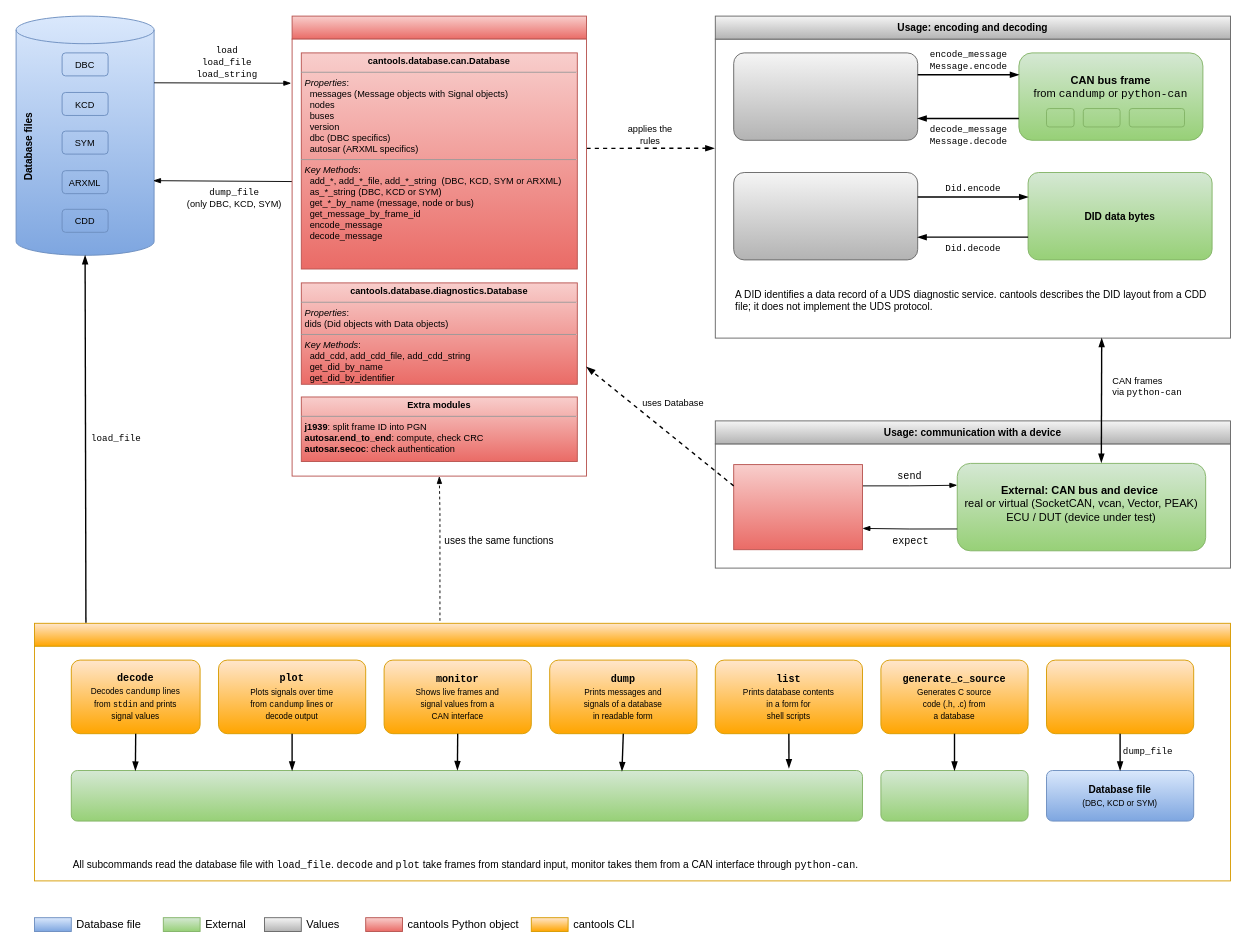
Some shapes in this 1247 by 948 pixel diagram are drawn without their labels. The shapes that lost their labels are listed below. From the top down, each one's centre as x and y in pixels, then its label:
pixel 438 27: cantools Python objects
pixel 825 96: Signal values names, physical values
pixel 1060 117: ID
pixel 1101 117: Length
pixel 1156 117: Data bytes
pixel 825 216: DID values names, physical values
pixel 797 507: cantools.tester.Tester Key Methods : start, stop send, expect flush_input
pixel 632 634: Command line: cantools
pixel 1120 696: convert Converts a database to another format (DBC, KCD, SYM)
pixel 466 795: Terminal or plot window
pixel 954 795: C source files (.h, .c)
